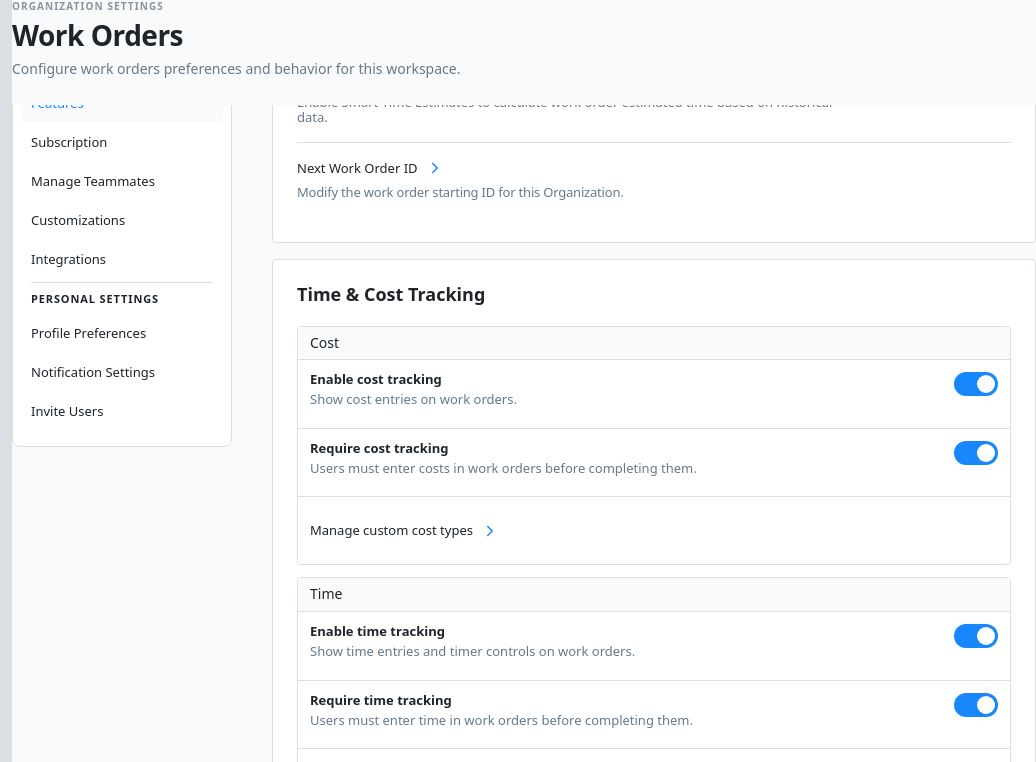
Test: Work Order feature settings › turns off only the Cost child setting when cost tracking is disabled
This screenshot has width=1036, height=762.
(page scrolled)
Expected: the heading "Cost" is shown, [298,327,1010,360]
Expected: the heading "Time" is shown, [298,578,1010,612]
Click the switch named "Enable cost tracking".
click(976, 384)  # box [954,372,998,396]
(page scrolled)
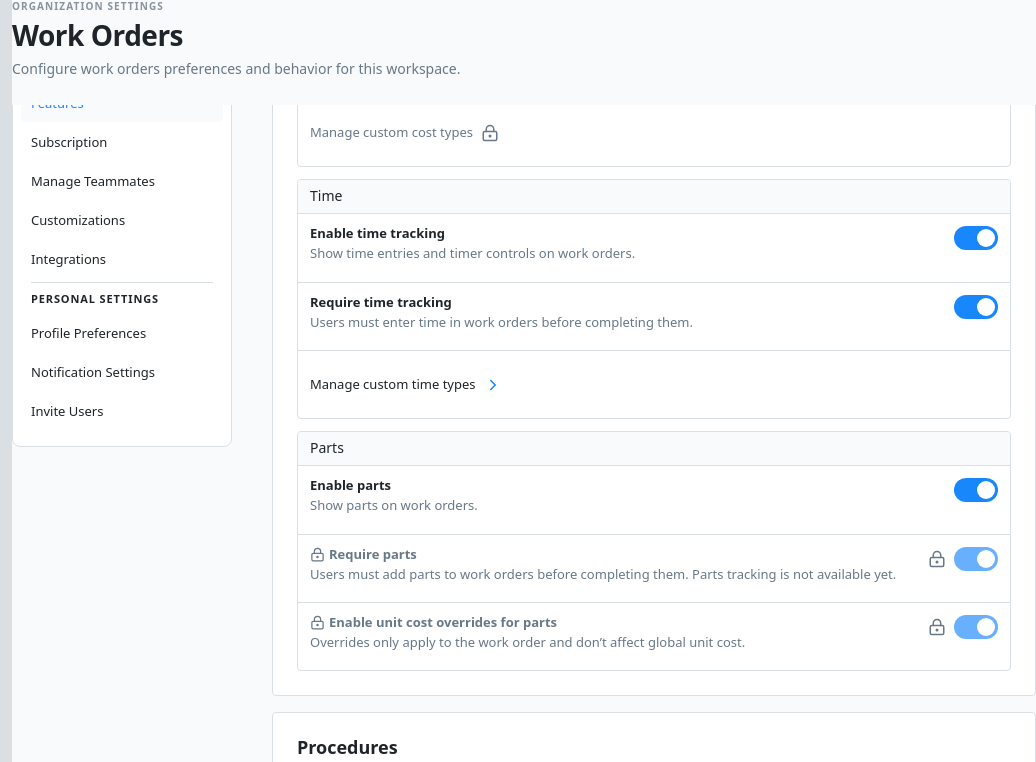
Expected: the switch named "Enable time tracking" is enabled, [954,226,998,250]
Expected: the button "Manage custom cost types" is disabled, [310,112,499,154]
